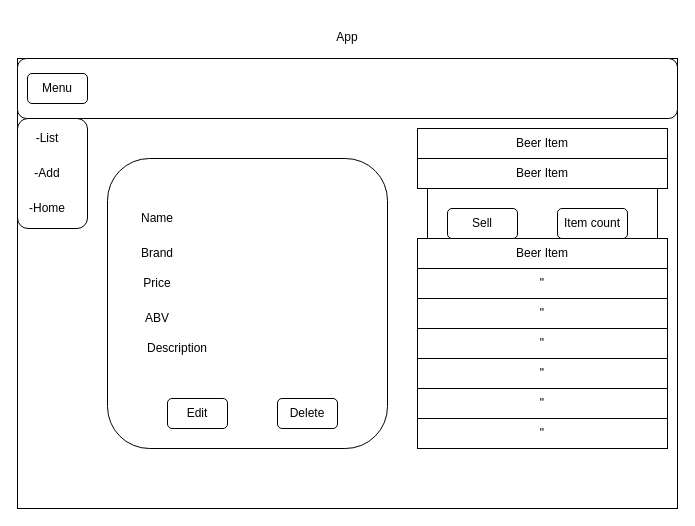
This 695x526 diagram has some shape labels left out. Each missing label, with the box of its shape:
Beer Card: (106, 158, 388, 448)
Header: (16, 58, 678, 118)
slide down menu: (426, 188, 658, 238)
